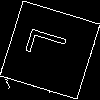L: (24, 25, 77, 66)
